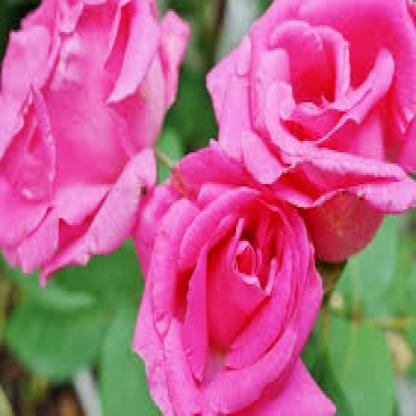Rose-Mawar: (134, 133, 328, 415), (201, 1, 416, 247), (1, 1, 187, 258)
